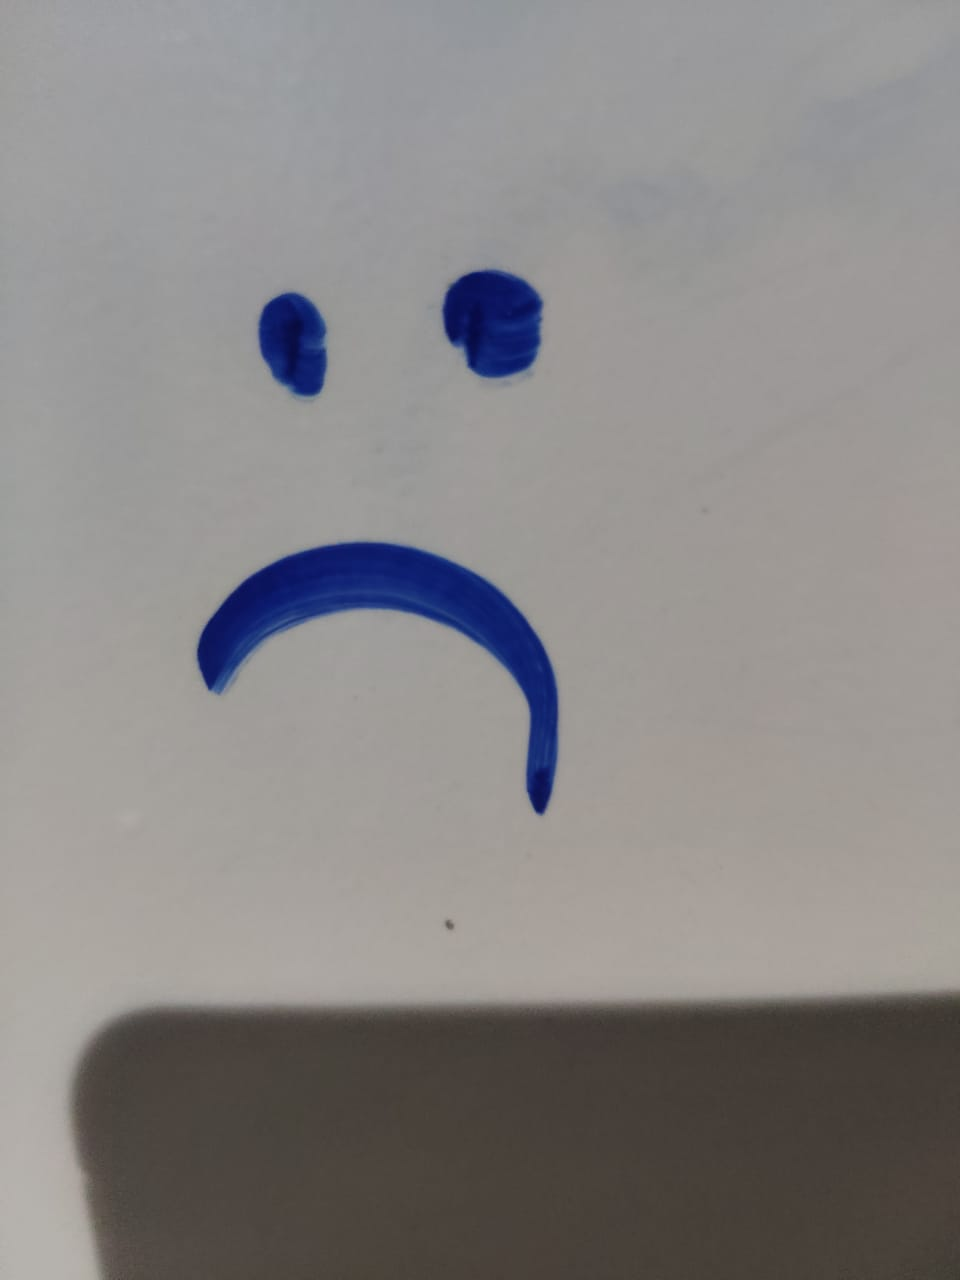triste: (169, 223, 618, 870)
